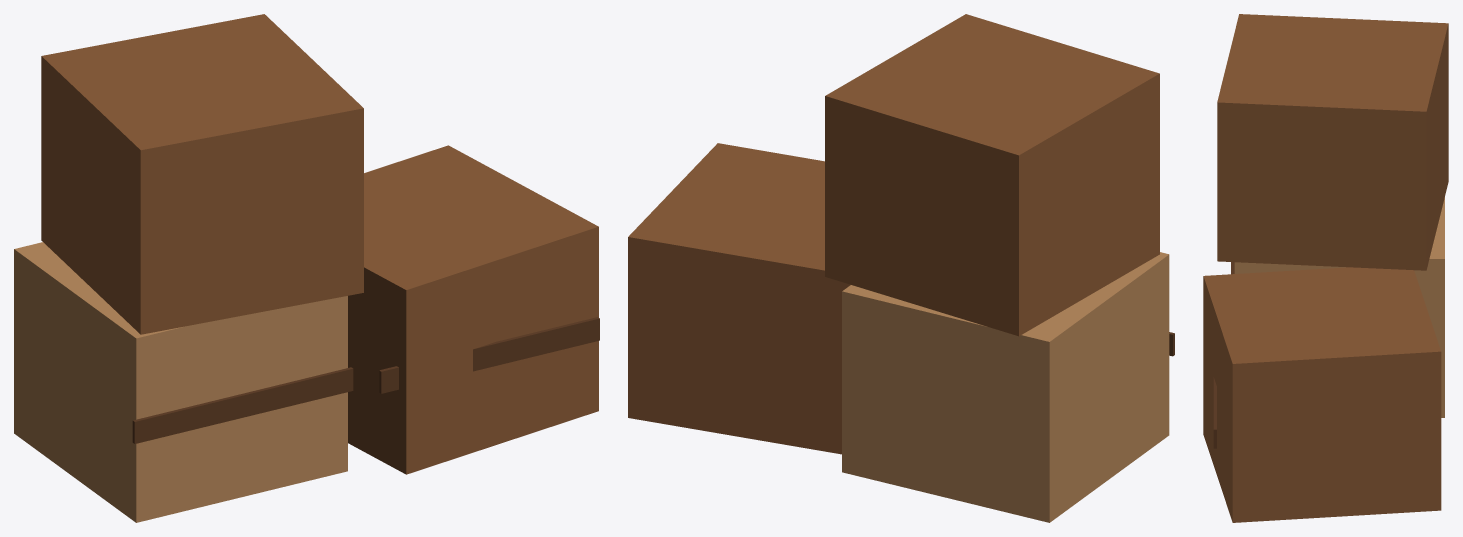
The model's file is crates.glb.
3 renders of one model, left to right at view 1: azimuth 30°, elevation 25°; view 2: azimuth 150°, elevation 25°; view 3: azimuth 270°, elevation 25°, orthographic. The views are drawn at different scales.
Parts seen in each view (by area): view 1: crates-8a5a35, crates-b9895a, crates-5e3b22; view 2: crates-8a5a35, crates-b9895a; view 3: crates-8a5a35, crates-b9895a, crates-5e3b22.
Part boxes in pixels (x1=…): crates-8a5a35: x1=41, y1=14, x2=598, y2=474; crates-b9895a: x1=14, y1=242, x2=347, y2=522; crates-5e3b22: x1=132, y1=317, x2=599, y2=443; crates-8a5a35: x1=628, y1=14, x2=1159, y2=454; crates-b9895a: x1=842, y1=252, x2=1169, y2=522; crates-8a5a35: x1=1203, y1=14, x2=1448, y2=522; crates-b9895a: x1=1234, y1=197, x2=1444, y2=417; crates-5e3b22: x1=1213, y1=262, x2=1234, y2=448.
Size of the model in its own units: 1.32 by 1 by 0.6985.
